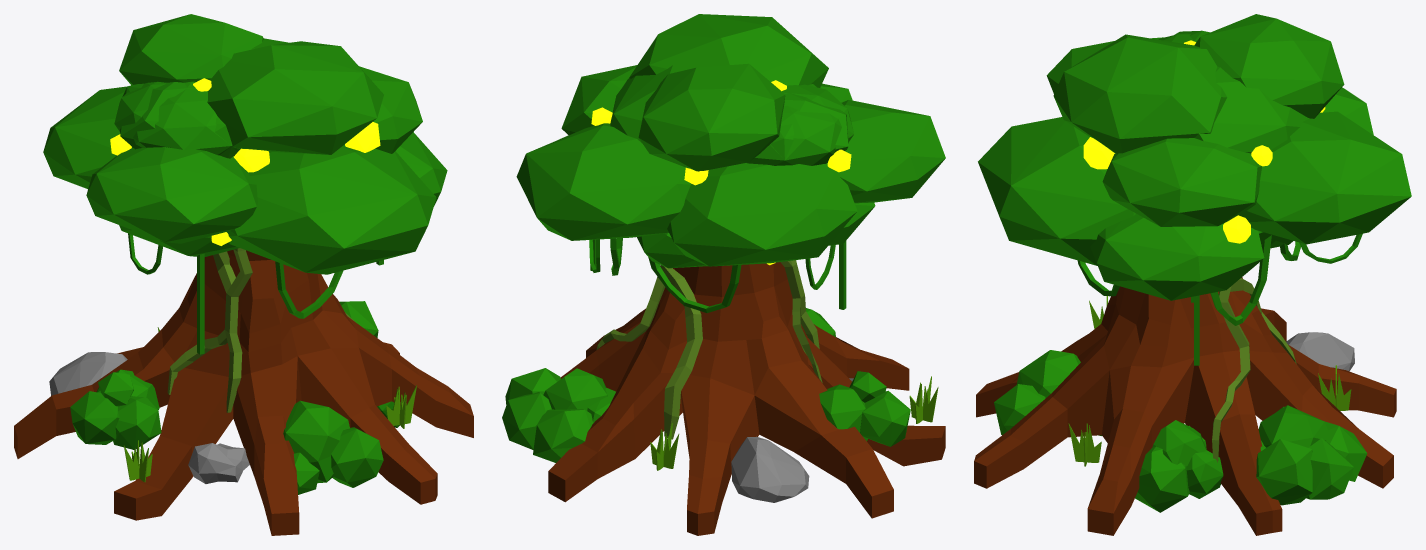
Rendered from mother_tree.fbx.
3 views of the same model, side by side, from view 1: azimuth 30°, elevation 25°; view 2: azimuth 150°, elevation 25°; view 3: azimuth 270°, elevation 25° (orthographic).
Parts seen in each view (by area): view 1: mother_tree; view 2: mother_tree; view 3: mother_tree.
Part boxes in pixels (left/top/right/bottom): mother_tree: left=14, top=14, right=473, bottom=535; mother_tree: left=502, top=14, right=945, bottom=535; mother_tree: left=974, top=14, right=1411, bottom=535.
Size of the model in its own units: 639 by 653 by 627.
